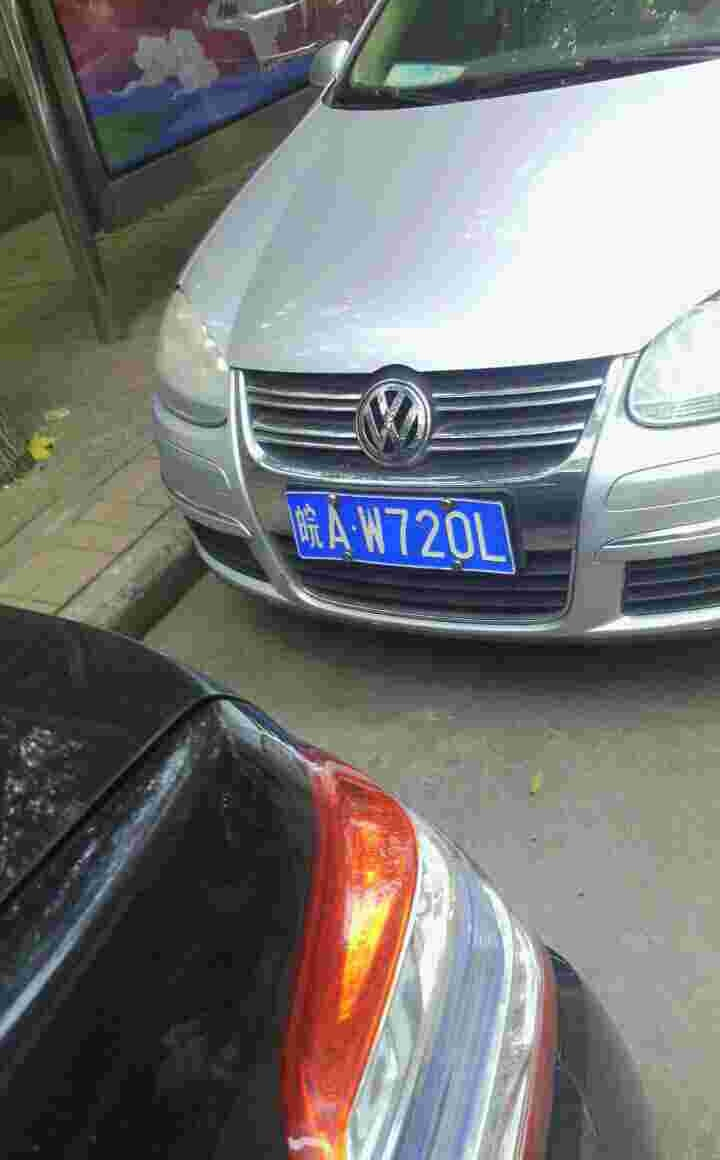plate: (281, 484, 520, 578)
